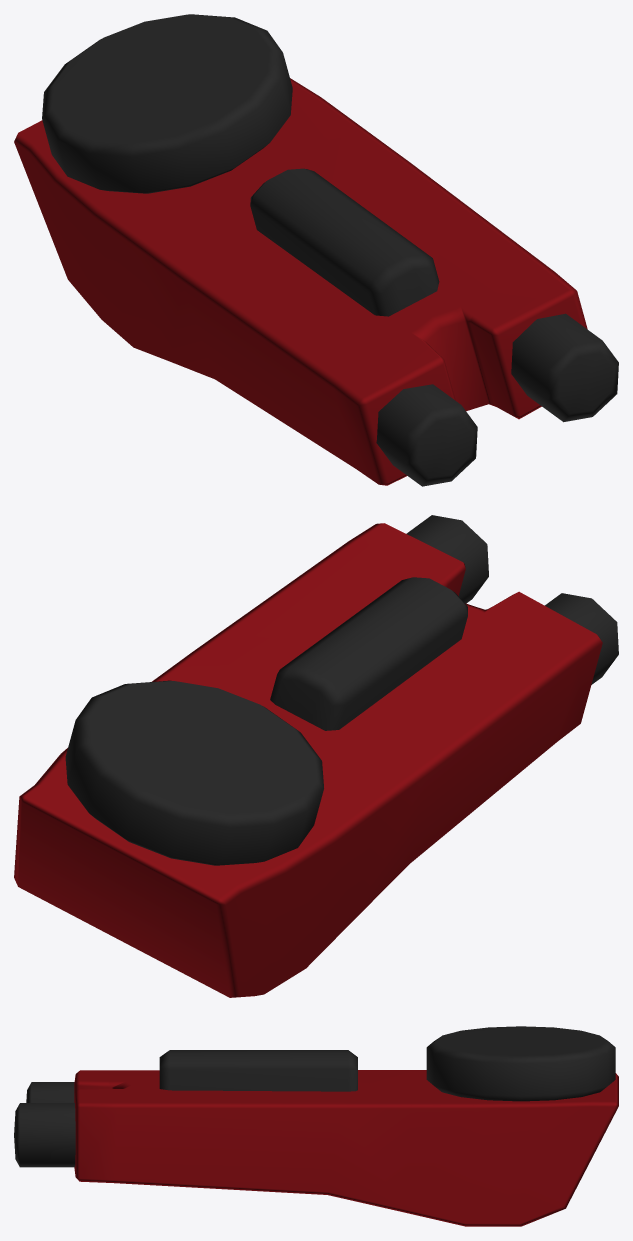
File: Ship_enemy_07_Weapon_R.fbx
3 views of the same model, one above another, from view 1: azimuth 30°, elevation 25°; view 2: azimuth 150°, elevation 25°; view 3: azimuth 270°, elevation 25° (orthographic). The views are drawn at different scales.
Parts seen in each view (by area): view 1: Ship_enemy_07_Weapon_R; view 2: Ship_enemy_07_Weapon_R; view 3: Ship_enemy_07_Weapon_R.
Part boxes in pixels (x1,y1,x2,y2): Ship_enemy_07_Weapon_R: (14,14,618,486); Ship_enemy_07_Weapon_R: (14,515,618,997); Ship_enemy_07_Weapon_R: (14,1026,618,1226).
Size of the model in its own units: 86.41 by 79.16 by 225.
